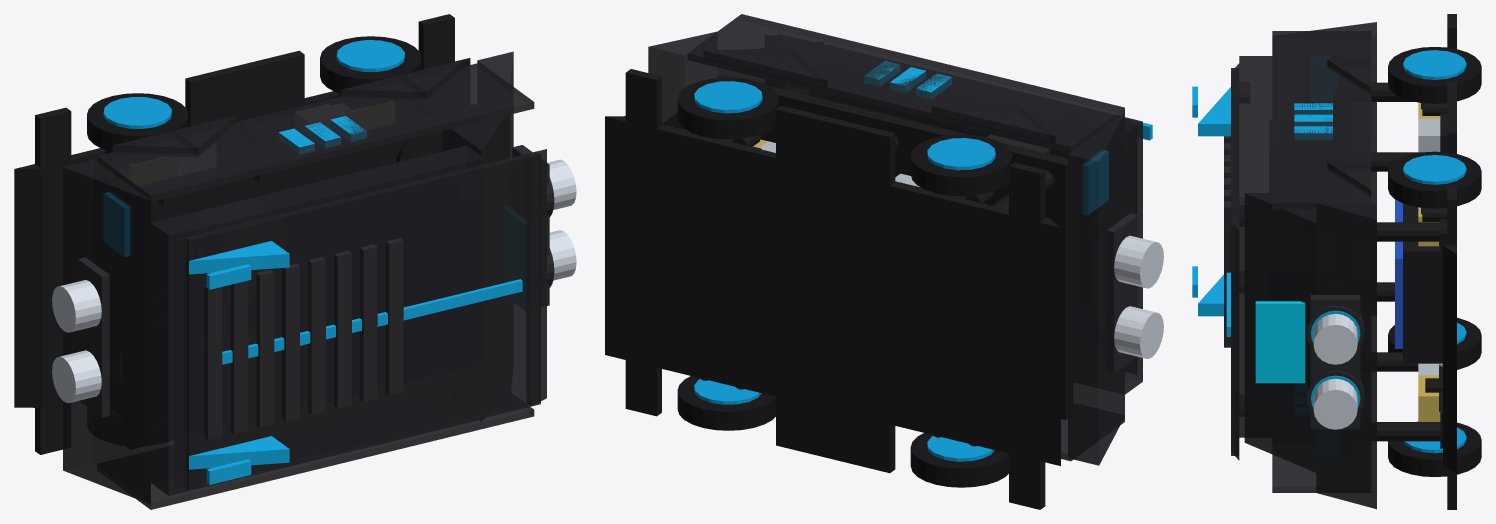
The model's file is assembled_cyber_car.obj.
3 renders of one model, left to right at view 1: azimuth 30°, elevation 25°; view 2: azimuth 150°, elevation 25°; view 3: azimuth 270°, elevation 25°, orthographic. The views are drawn at different scales.
Bounding box in the file's own units: 195 × 124 × 105.
